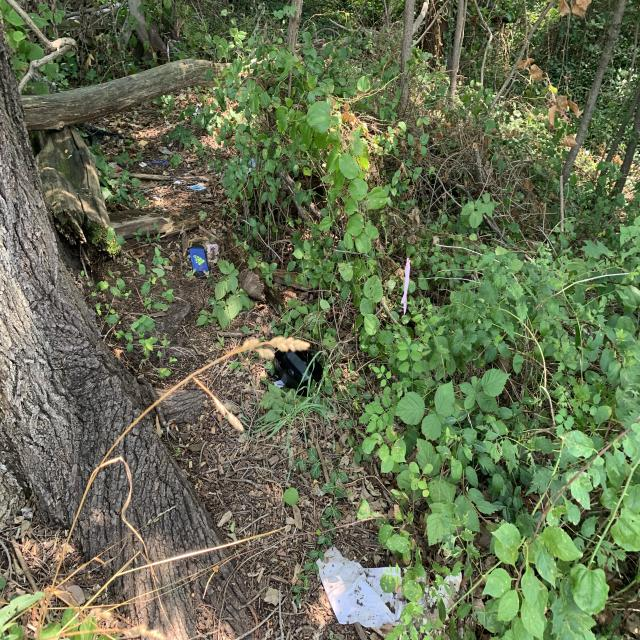Plastic: (321, 555, 415, 621), (189, 242, 210, 280)
Trash -everything else-: (269, 343, 326, 396)
